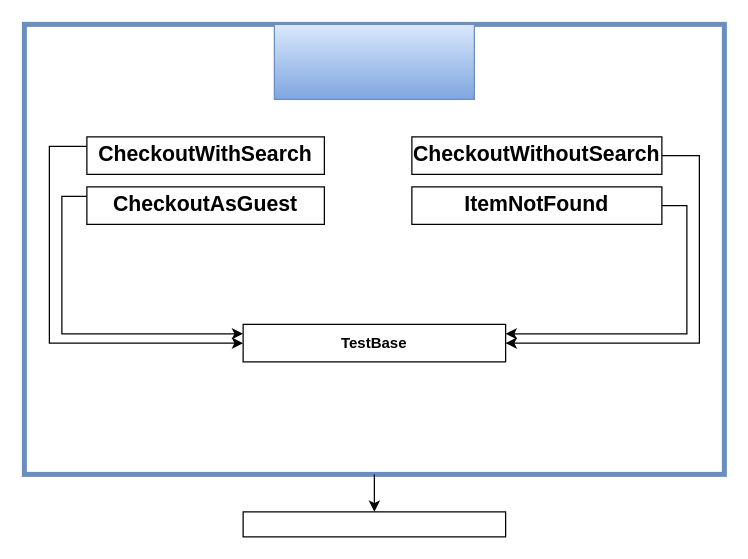
Image size: 748x559. Some labels were removed from this diagram. Here are the shapes that lost their labels. From the top down, the box of each, then its label:
(273, 23, 474, 99): WORKFLOWS UML DIAGRAM
(242, 511, 506, 537): XML
